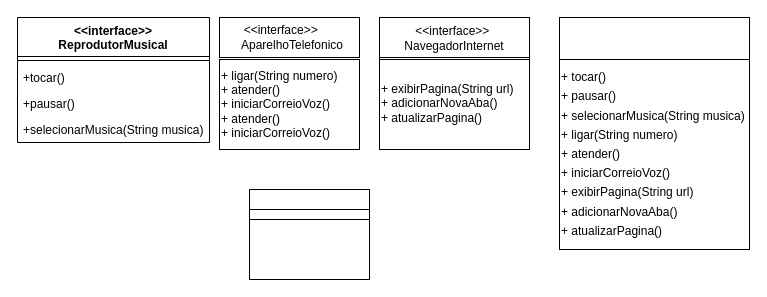
This 767x297 diagram has some shape labels left out. The shapes that lost their labels are listed below. From the top down, each one's centre as x and y in pixels, then its label:
(654,38): Iphone
(309,204): <<implements>>
(309,244): ReprodutorMusical AparelhoTelefonico NavegadorInternet
